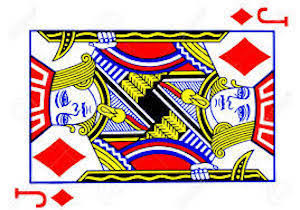JackOfDiamonds: (9, 1, 295, 209)
